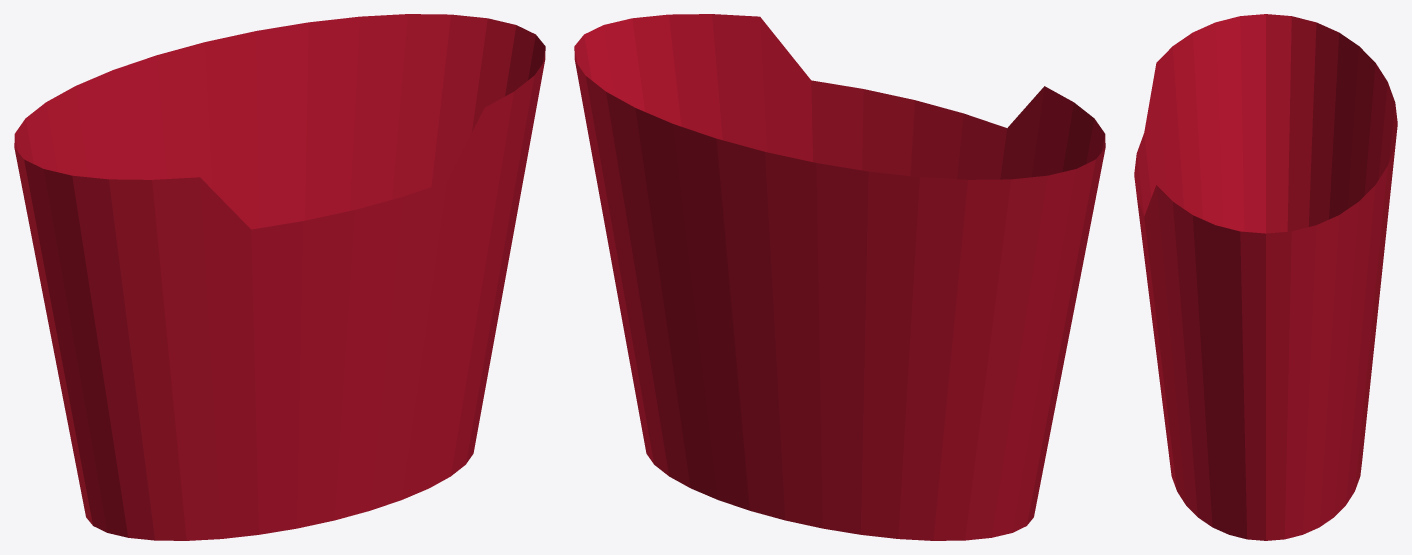
Rendered from Fries bag.fbx.
3 renders of one model, left to right at view 1: azimuth 30°, elevation 25°; view 2: azimuth 150°, elevation 25°; view 3: azimuth 270°, elevation 25°, orthographic. The views are drawn at different scales.
Parts seen in each view (by area): view 1: Circle; view 2: Circle; view 3: Circle.
Boxes of the visible parts, <box> form: Circle: <box>14,14,545,540</box>; Circle: <box>574,14,1105,540</box>; Circle: <box>1134,14,1397,540</box>.
Size of the model in its own units: 503 by 360 by 255.
